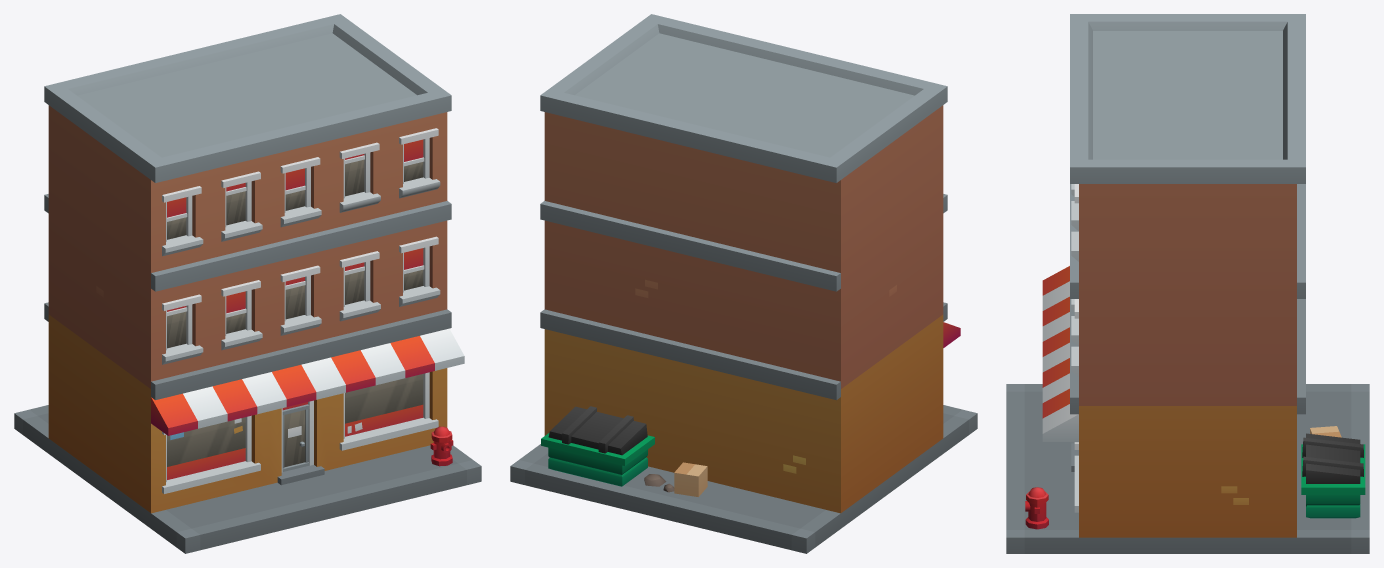
Rendered from building-E.glb.
The picture shows the model from 3 angles, left to right: view 1: azimuth 30°, elevation 25°; view 2: azimuth 150°, elevation 25°; view 3: azimuth 270°, elevation 25°; orthographic projection. The views are drawn at different scales.
Parts seen in each view (by area): view 1: building_E; view 2: building_E; view 3: building_E.
Part boxes in pixels (x1=…): building_E: x1=14, y1=14, x2=481, y2=553; building_E: x1=510, y1=14, x2=977, y2=553; building_E: x1=1006, y1=14, x2=1369, y2=553.
Bounding box in the file's own units: 2.01 × 2.35 × 2.
Materials: 1 (1 with a texture image).
